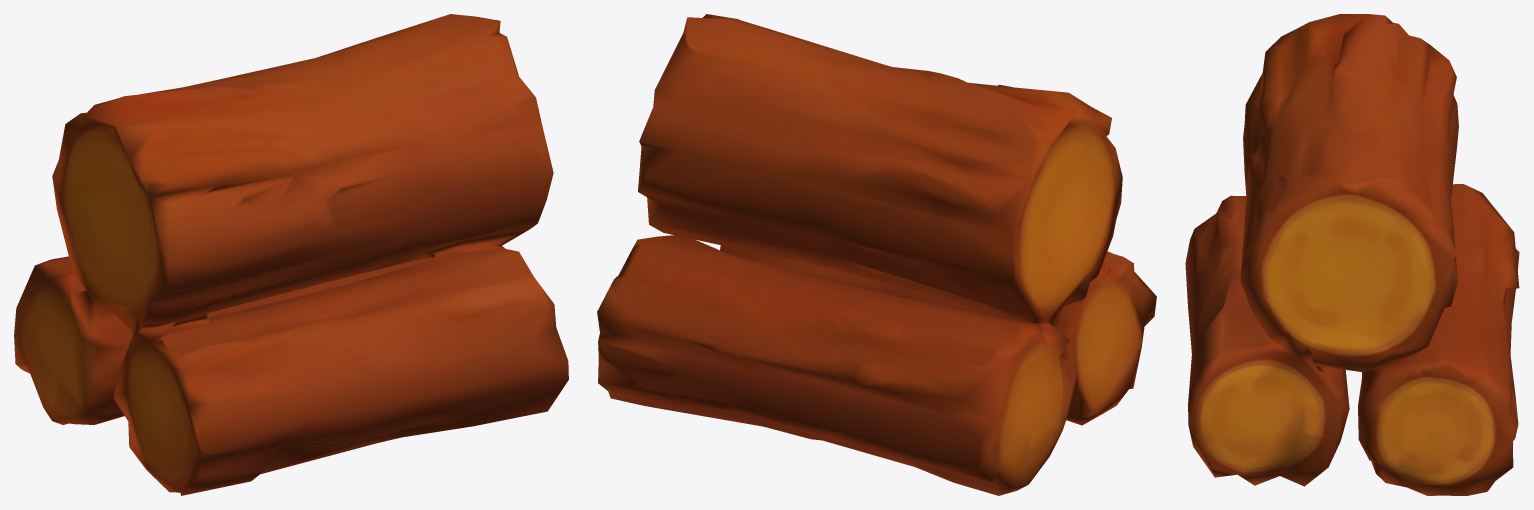
File: camp_logs2-C7UioE-l.glb
3 views of the same model, side by side, from view 1: azimuth 30°, elevation 25°; view 2: azimuth 150°, elevation 25°; view 3: azimuth 270°, elevation 25° (orthographic). The views are drawn at different scales.
Parts seen in each view (by area): view 1: tripo_node_6f4ab3fc-abf5-410b-9aac-5bba21fd0f61; view 2: tripo_node_6f4ab3fc-abf5-410b-9aac-5bba21fd0f61; view 3: tripo_node_6f4ab3fc-abf5-410b-9aac-5bba21fd0f61.
Part boxes in pixels (<box>): tripo_node_6f4ab3fc-abf5-410b-9aac-5bba21fd0f61: <box>14,14,568,495</box>; tripo_node_6f4ab3fc-abf5-410b-9aac-5bba21fd0f61: <box>597,14,1156,495</box>; tripo_node_6f4ab3fc-abf5-410b-9aac-5bba21fd0f61: <box>1185,14,1519,495</box>.
Size of the model in its own units: 1 by 0.8137 by 0.7657.
Materials: 1 (1 with a texture image).
